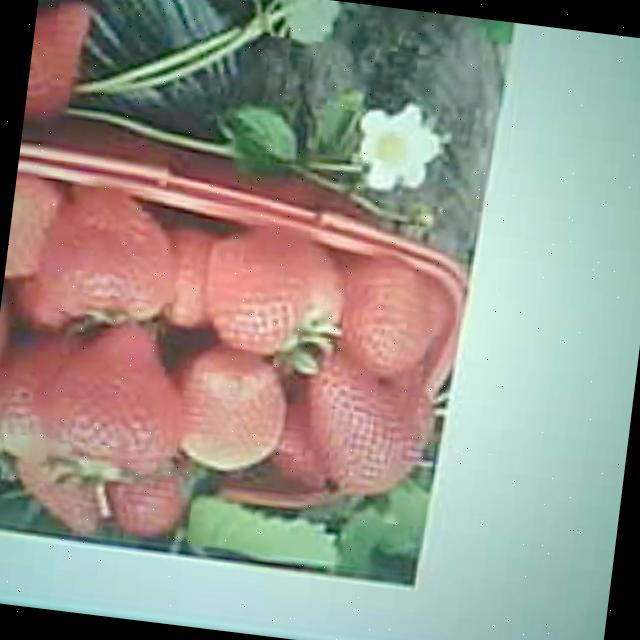strawberry: (39, 321, 189, 484), (35, 184, 180, 324), (301, 356, 420, 500), (166, 344, 292, 474)
